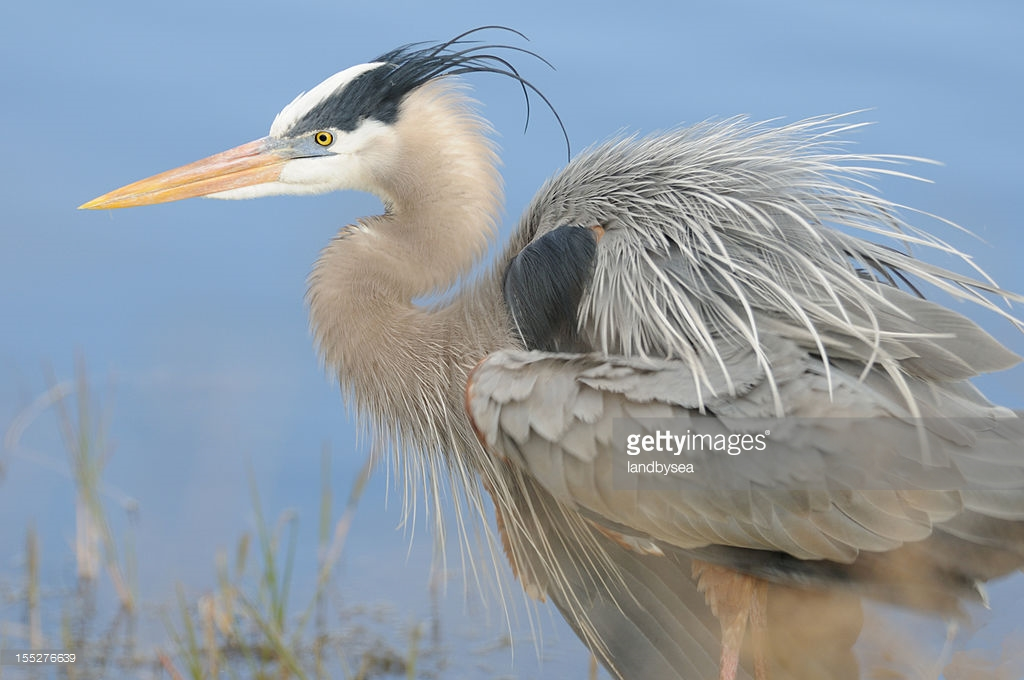heron: (78, 42, 1024, 593)
